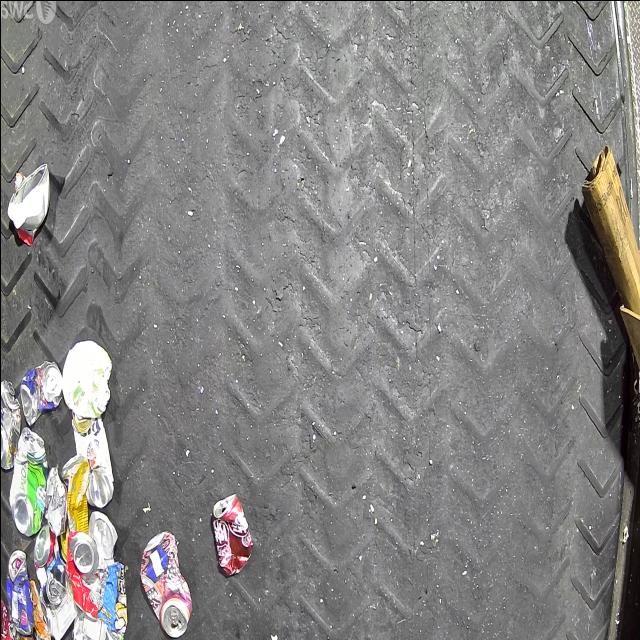can: (140, 530, 192, 638), (71, 410, 114, 508), (8, 426, 46, 536), (66, 530, 107, 620), (210, 492, 252, 578), (60, 452, 89, 562), (19, 359, 61, 426), (5, 549, 32, 635), (0, 379, 20, 469), (32, 524, 61, 586), (88, 510, 116, 565), (71, 614, 121, 640), (40, 566, 66, 606), (0, 592, 20, 640)
